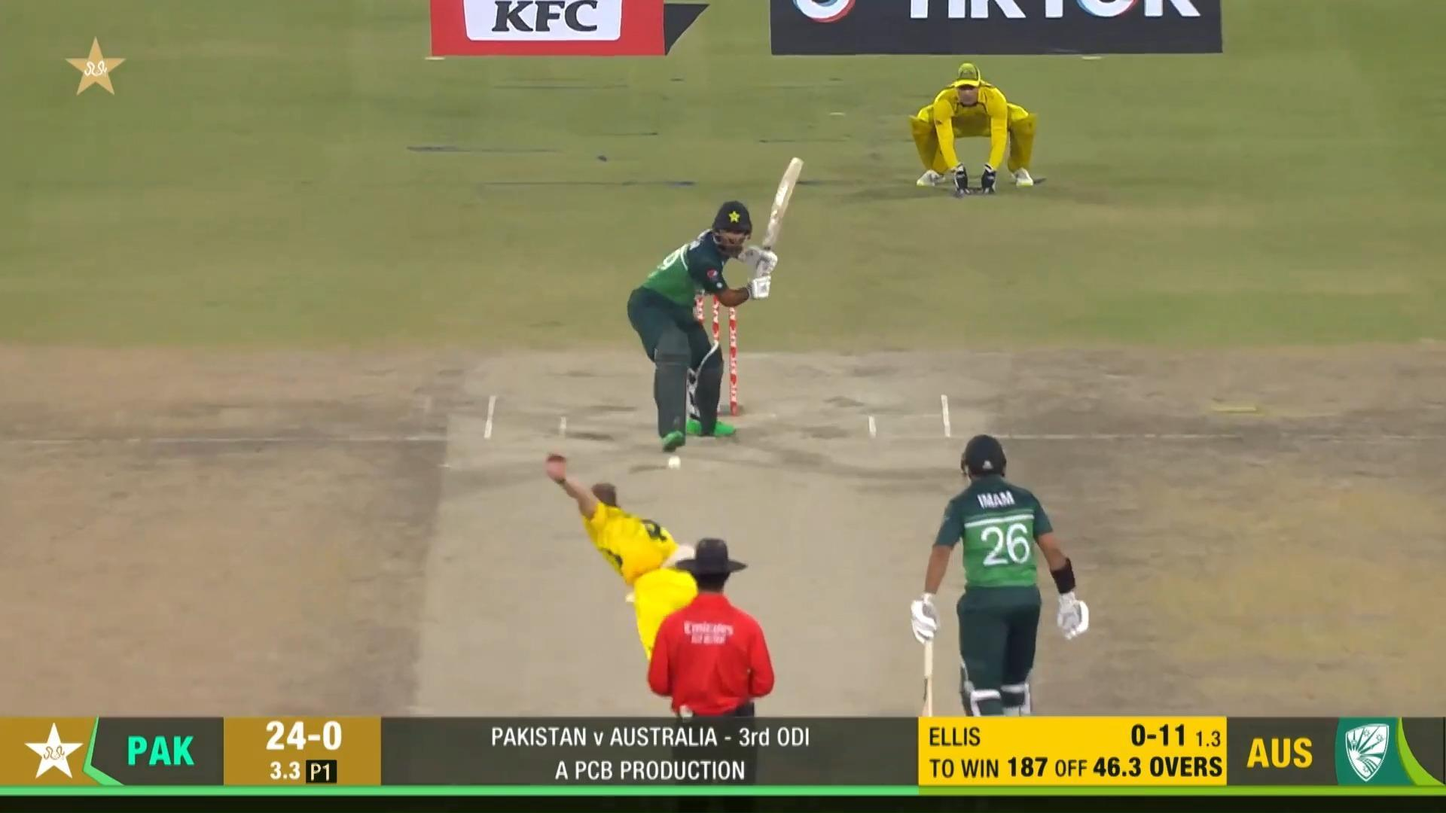BM 1: (624, 154, 807, 455)
BO: (540, 451, 699, 663)
